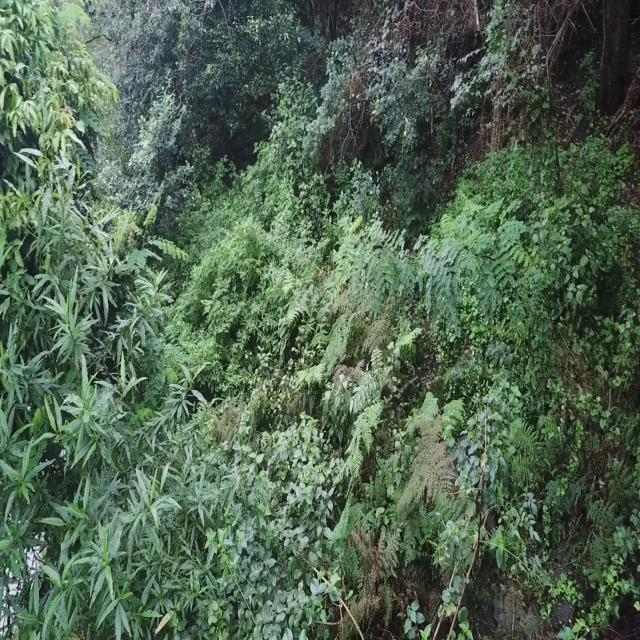Mysore-Thorn-Weed: (343, 199, 538, 351)
